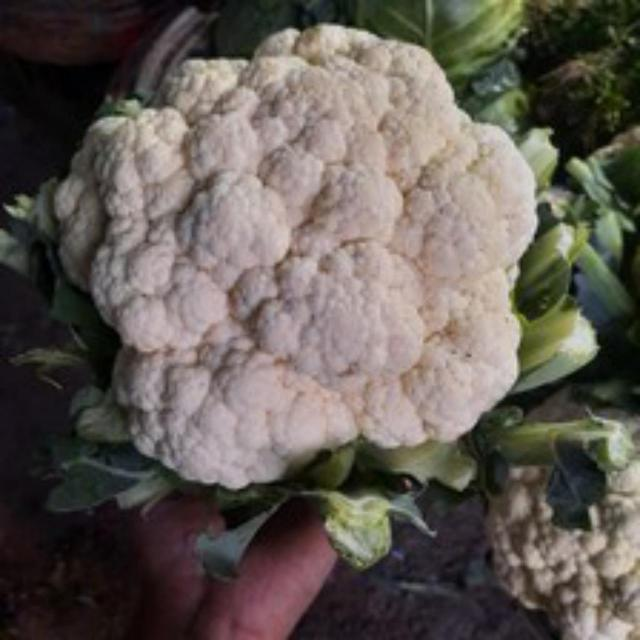cauliflower: (41, 19, 578, 478)
